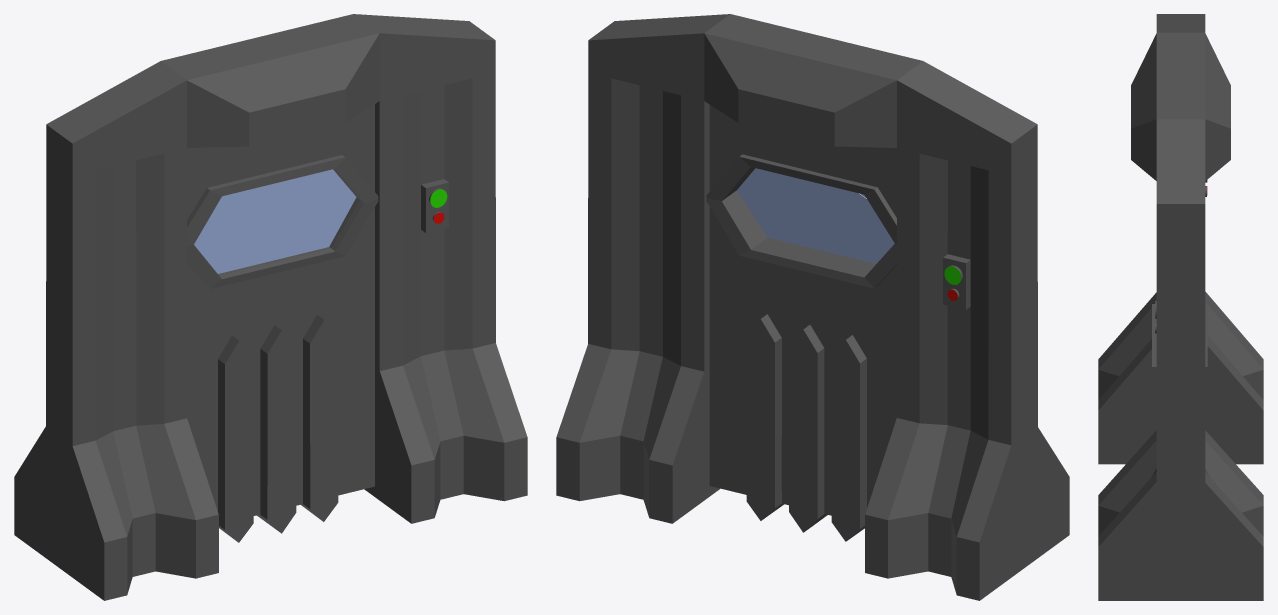
Rendered from smallDoor.fbx.
3 renders of one model, left to right at view 1: azimuth 30°, elevation 25°; view 2: azimuth 150°, elevation 25°; view 3: azimuth 270°, elevation 25°, orthographic. The views are drawn at different scales.
Visible parts, largest first — view 1: Frame, Door; view 2: Frame, Door; view 3: Frame, Door.
Boxes of the visible parts, x1,y1,x2,y2 form: Frame: [14, 14, 527, 600]; Door: [187, 104, 378, 542]; Frame: [556, 14, 1069, 600]; Door: [706, 105, 896, 541]; Frame: [1098, 14, 1263, 600]; Door: [1152, 304, 1207, 434].
Bounding box in the file's own units: 835 × 894 × 307.
